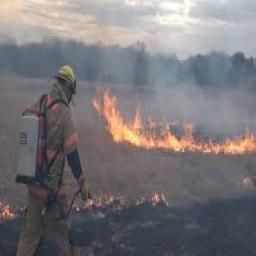Low smoke: (88, 26, 253, 83)
Small fire: (95, 90, 256, 159), (2, 186, 169, 221)
